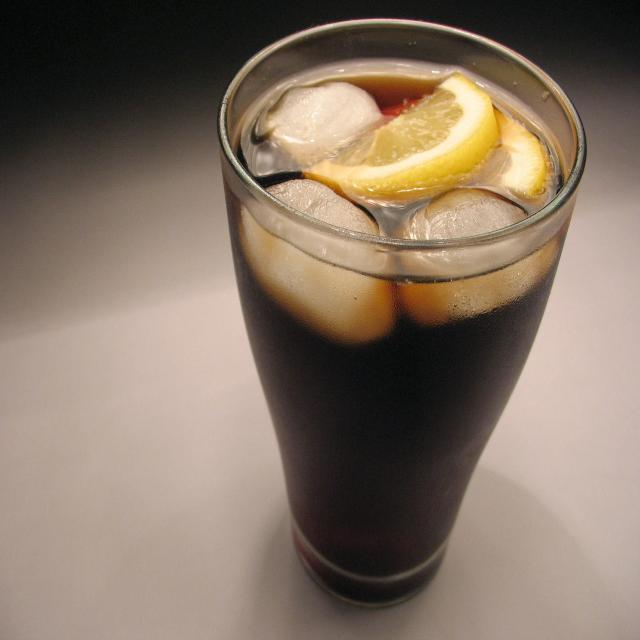Coke: (213, 15, 588, 615)
